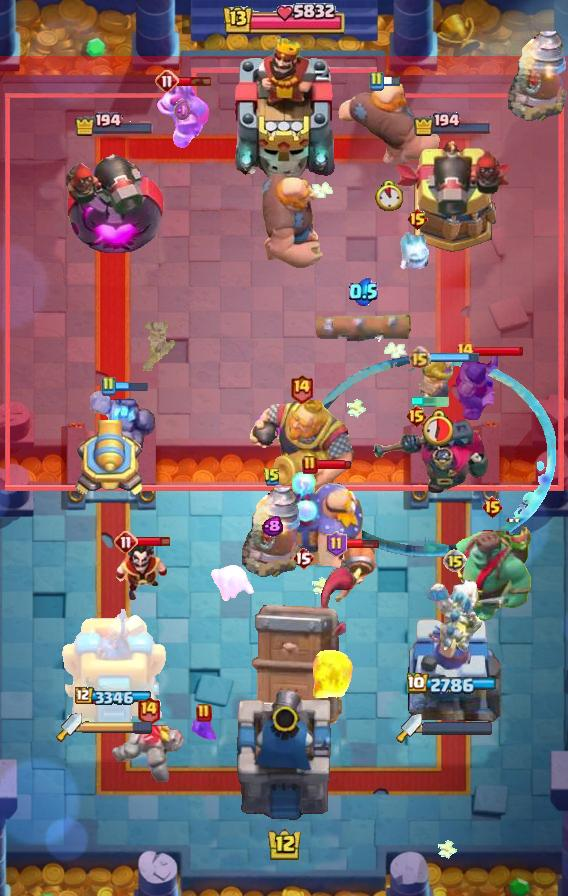balloon: (337, 77, 441, 169), (259, 169, 327, 271)
bar: (62, 601, 166, 731), (405, 611, 501, 731)
barbarian: (189, 716, 219, 744)
bat: (395, 230, 439, 276)
clock: (221, 0, 347, 40)
dart-goblin: (251, 567, 355, 725)
electro-spirit: (350, 278, 378, 307), (261, 516, 282, 537), (174, 98, 192, 122)
elixir: (421, 410, 453, 447), (375, 181, 403, 211)
elixir-golem-small: (156, 78, 210, 150)
emote: (472, 345, 524, 357), (428, 353, 480, 364), (137, 536, 172, 549), (177, 75, 213, 87), (316, 459, 352, 471), (344, 538, 380, 550), (114, 380, 149, 392), (383, 77, 402, 88)
firecracker: (454, 352, 497, 421)
fisherman: (135, 322, 179, 371)
giant-skeleton: (245, 396, 359, 500)
goblin-giant: (419, 357, 455, 403)
ice-spirit: (410, 397, 450, 407)
inferno-tower: (372, 417, 488, 495)
king-tower: (228, 35, 340, 181), (232, 686, 336, 826)
king-tower-bar: (82, 720, 154, 734), (422, 721, 494, 735)
knight: (327, 540, 377, 604)
lava-hound: (448, 515, 536, 625)
little-prince: (280, 470, 368, 570)
lumberjack: (114, 540, 170, 604)
magic-archer: (508, 30, 568, 122), (242, 486, 302, 578)
mini-pekka: (423, 576, 487, 658)
minion: (313, 307, 413, 345)
mirror: (208, 563, 258, 601)
pad_0: (304, 354, 556, 558)
royal-recruit: (70, 420, 146, 500)
selected: (407, 672, 499, 696), (73, 112, 154, 137), (413, 112, 493, 137), (74, 687, 154, 707)
text: (289, 373, 314, 404), (135, 695, 160, 726), (155, 69, 179, 93), (114, 530, 138, 554), (443, 549, 467, 573), (406, 207, 429, 231), (404, 404, 427, 428), (480, 495, 503, 519), (325, 531, 346, 557), (409, 347, 432, 370), (292, 546, 314, 570), (455, 341, 475, 361), (263, 467, 281, 487), (368, 71, 384, 91), (100, 376, 116, 396), (302, 455, 318, 475), (196, 703, 212, 723)
tower-bar: (392, 138, 514, 256), (64, 138, 164, 256)
valkyrie: (309, 644, 355, 702)
valkyrie-evolution: (90, 388, 156, 460), (110, 720, 186, 782)
